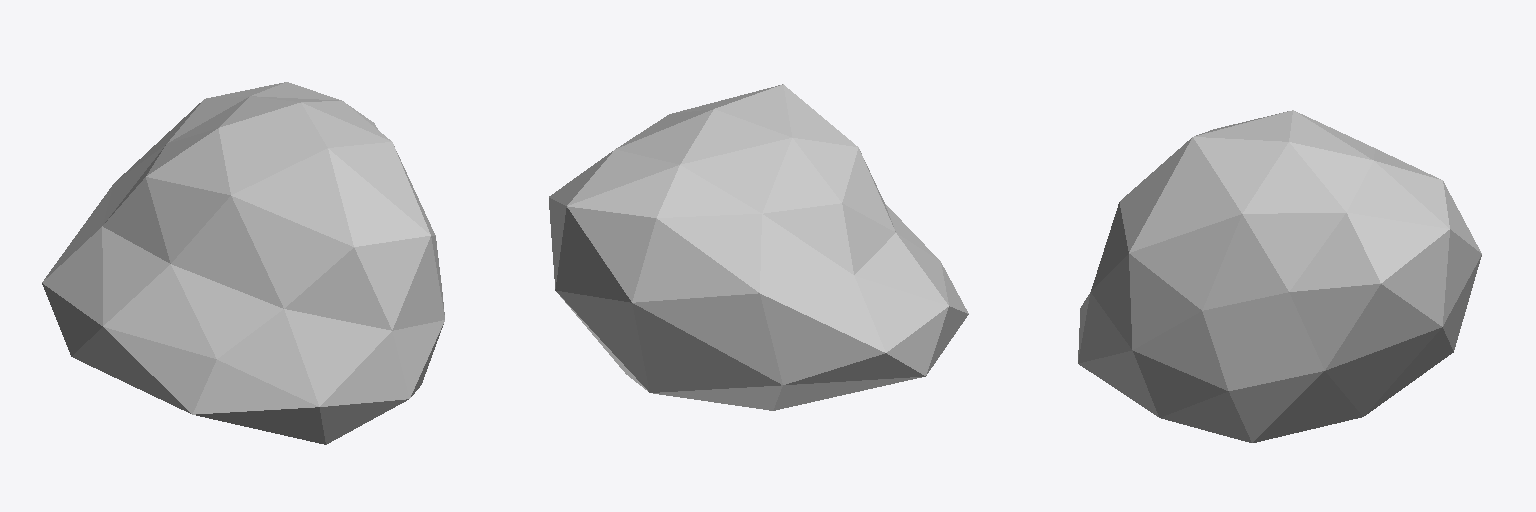
The model's file is prop_v2_11.obj.
The picture shows the model from 3 angles: view 1: azimuth 30°, elevation 25°; view 2: azimuth 150°, elevation 25°; view 3: azimuth 270°, elevation 25°; orthographic projection.
Visible parts, largest first — view 1: prop_v2_11_Icosphere.003; view 2: prop_v2_11_Icosphere.003; view 3: prop_v2_11_Icosphere.003.
Part boxes in pixels (x1,y1,x2,y2): prop_v2_11_Icosphere.003: (42, 82, 444, 444); prop_v2_11_Icosphere.003: (549, 84, 968, 410); prop_v2_11_Icosphere.003: (1078, 110, 1481, 442).
Bounding box in the file's own units: 0.1542 × 0.1189 × 0.1576.